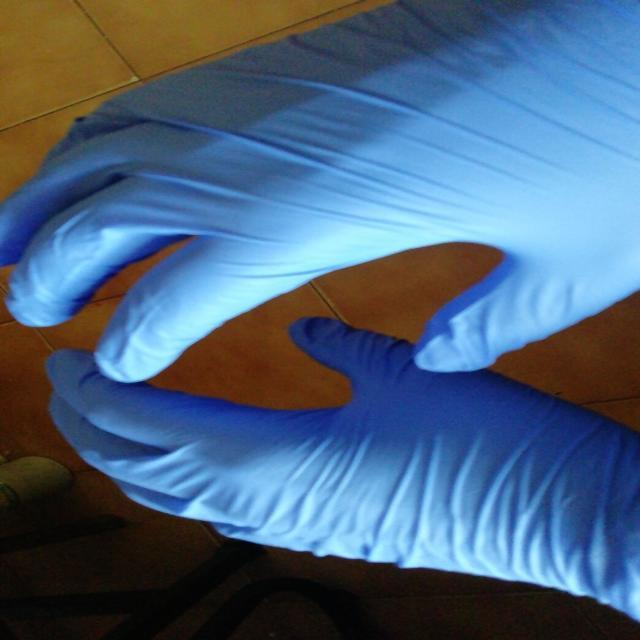gloved_hand: (4, 0, 638, 384), (39, 314, 640, 624)
